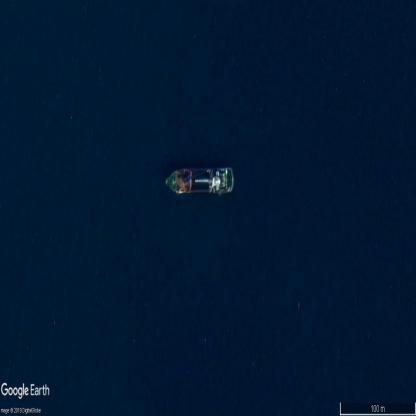ship: (164, 165, 234, 195)
